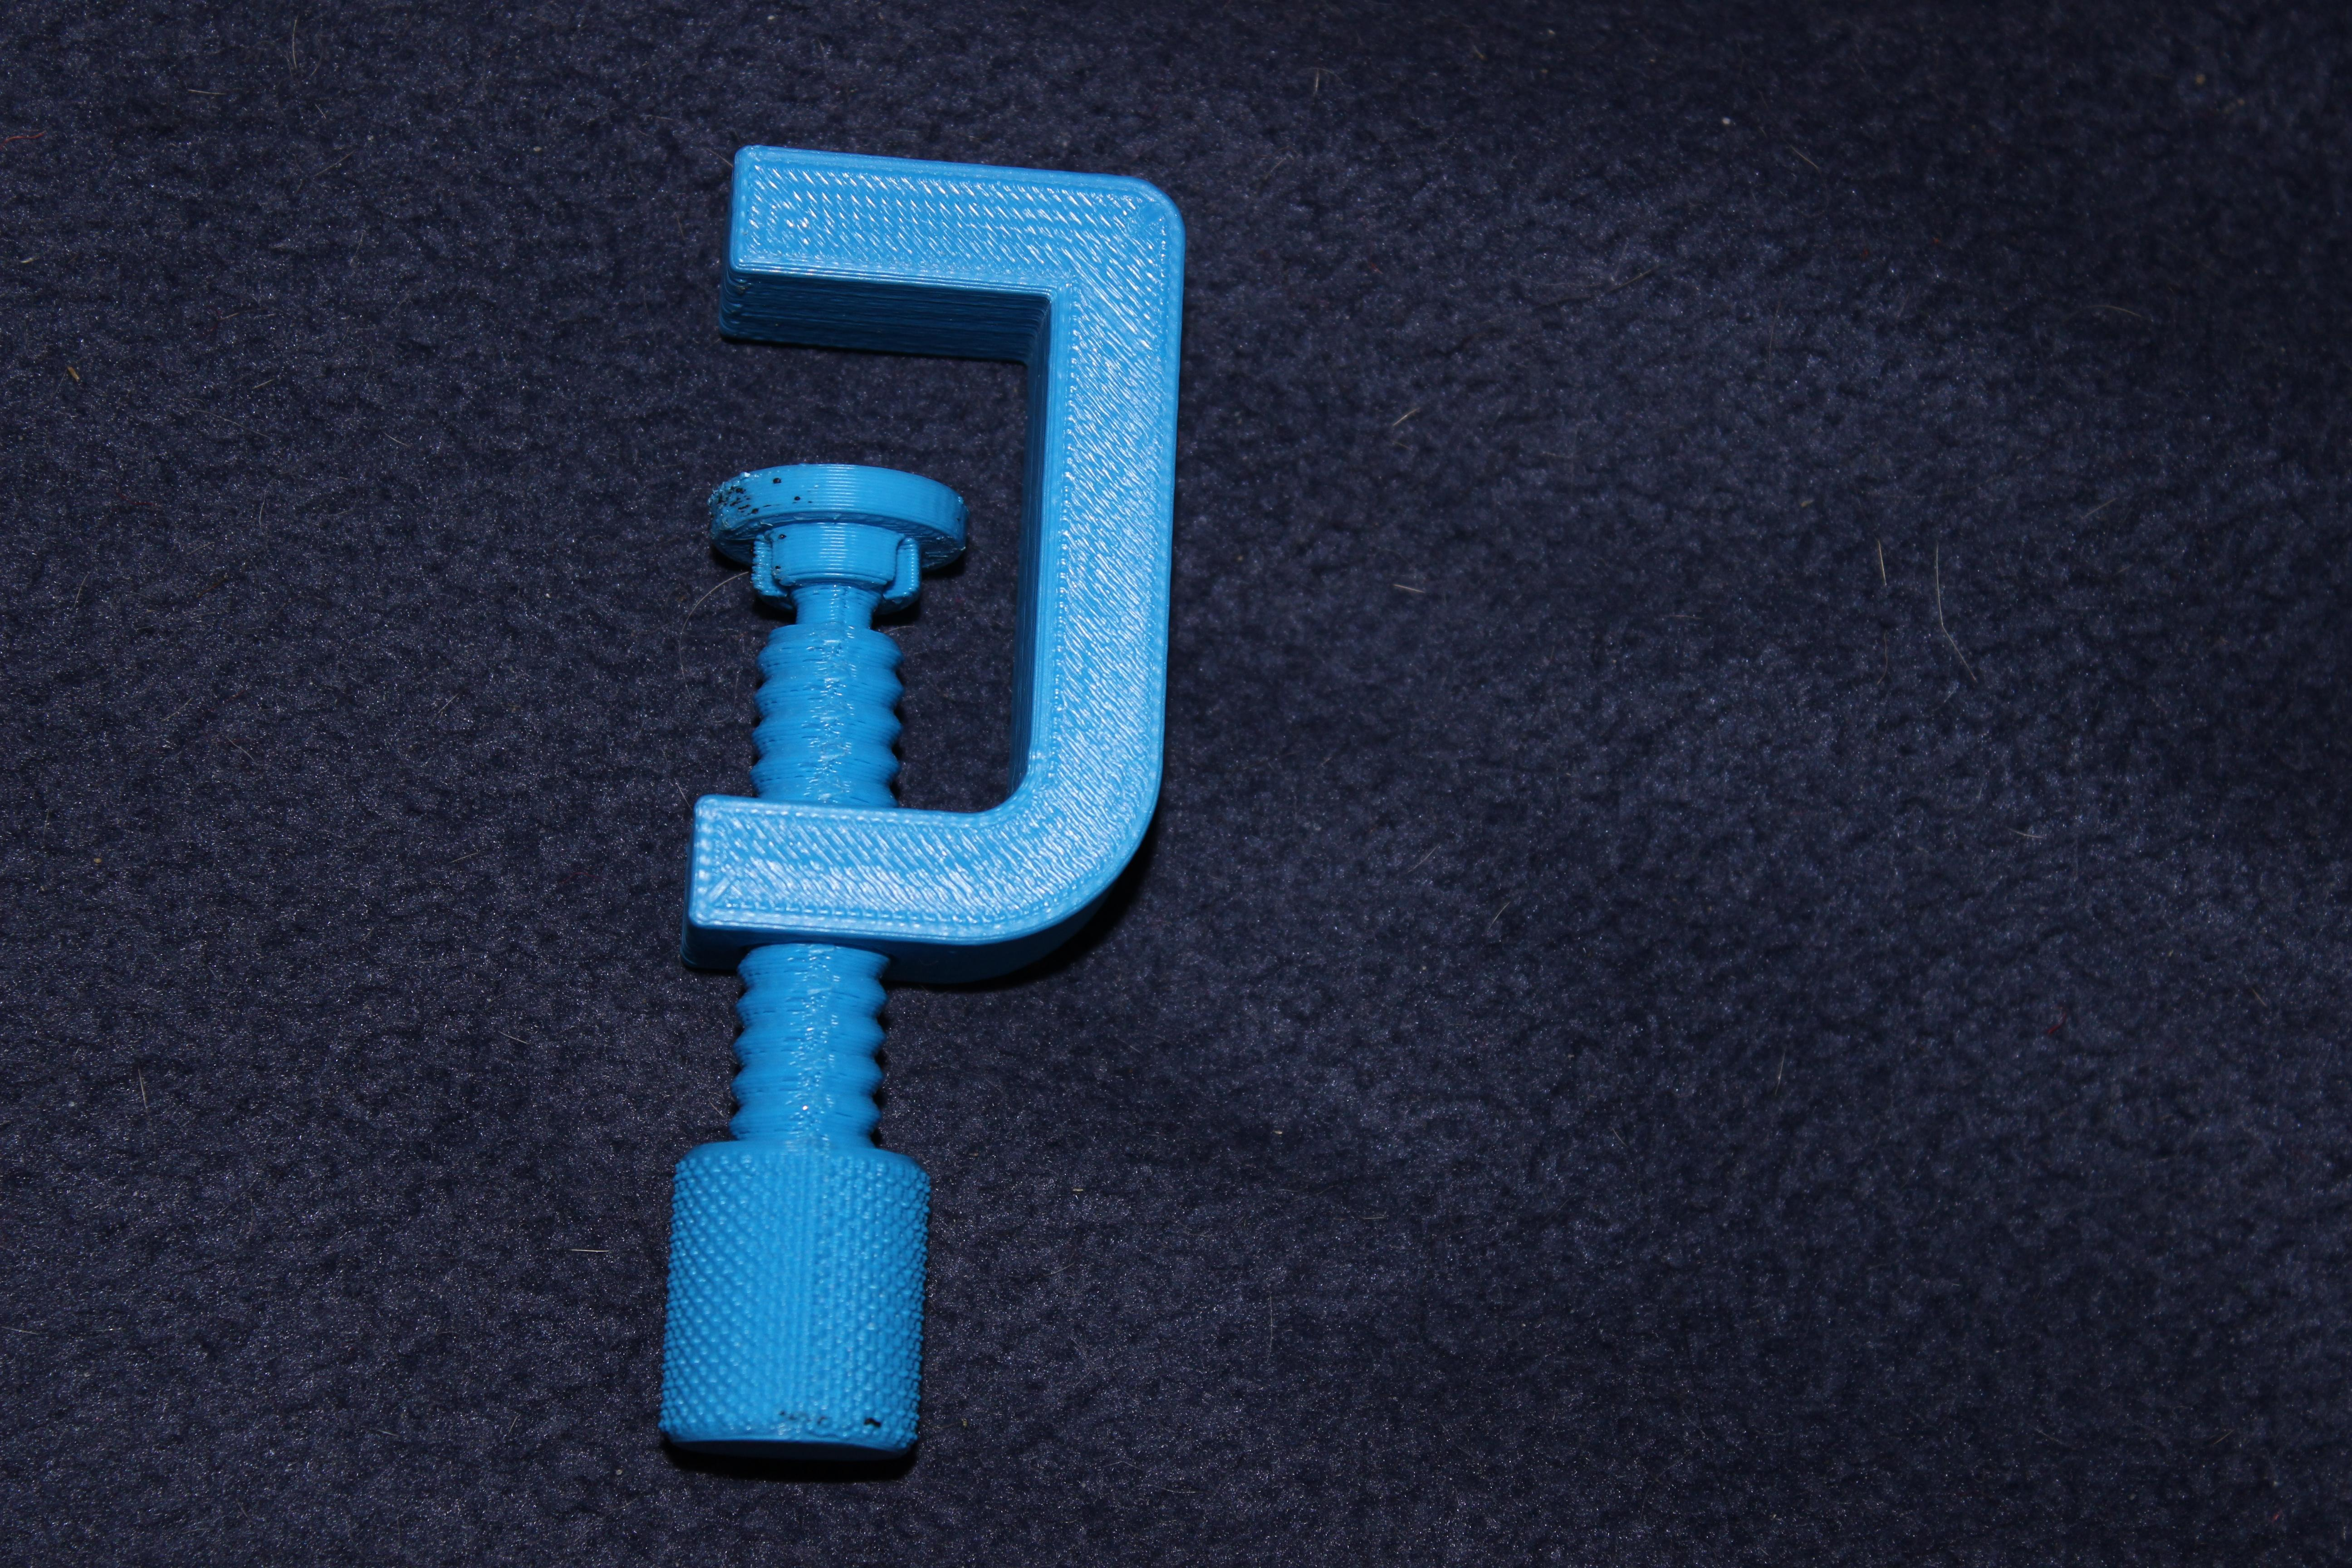gClamp: (604, 103, 1242, 1514)
